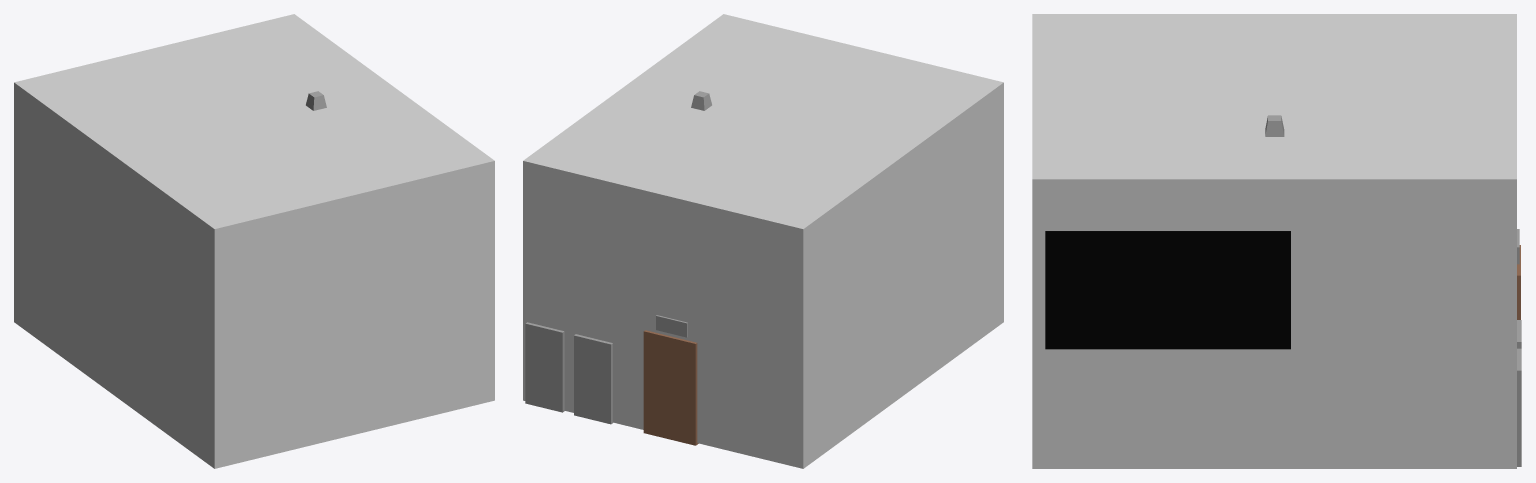
Rendered from office_sweg.fbx.
3 views of the same model, side by side, from view 1: azimuth 30°, elevation 25°; view 2: azimuth 150°, elevation 25°; view 3: azimuth 270°, elevation 25° (orthographic). The views are drawn at different scales.
Parts seen in each view (by area): view 1: pCube8; view 2: pCube8, pCube9, pCube12, pasted__pCube12, pCube13; view 3: pCube8, pCube10, pCube12.
Boxes of the visible parts, bbox=[...] form: pCube8: bbox=[14, 14, 494, 468]; pCube8: bbox=[523, 14, 1003, 468]; pCube9: bbox=[643, 330, 698, 445]; pCube12: bbox=[525, 322, 564, 412]; pasted__pCube12: bbox=[574, 334, 612, 424]; pCube13: bbox=[656, 315, 687, 337]; pCube8: bbox=[1032, 14, 1516, 468]; pCube10: bbox=[1045, 231, 1290, 349]; pCube12: bbox=[1517, 348, 1521, 466].
Size of the model in its own units: 10.72 by 9.21 by 13.33.
